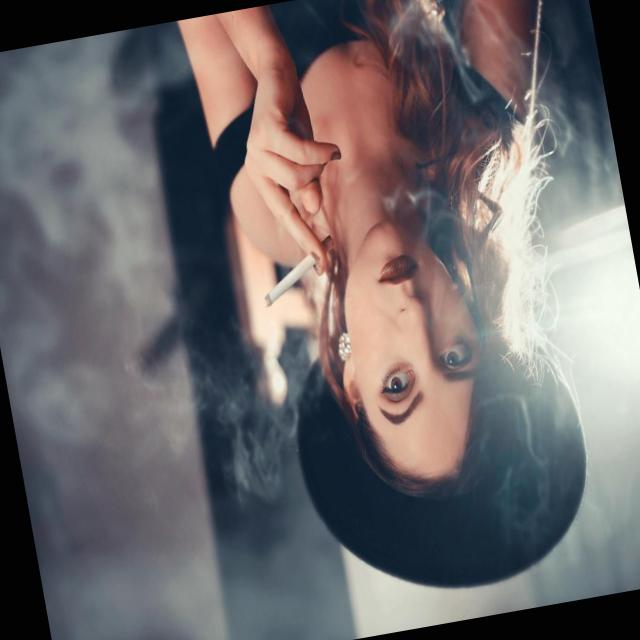smoke: (234, 236, 336, 325)
